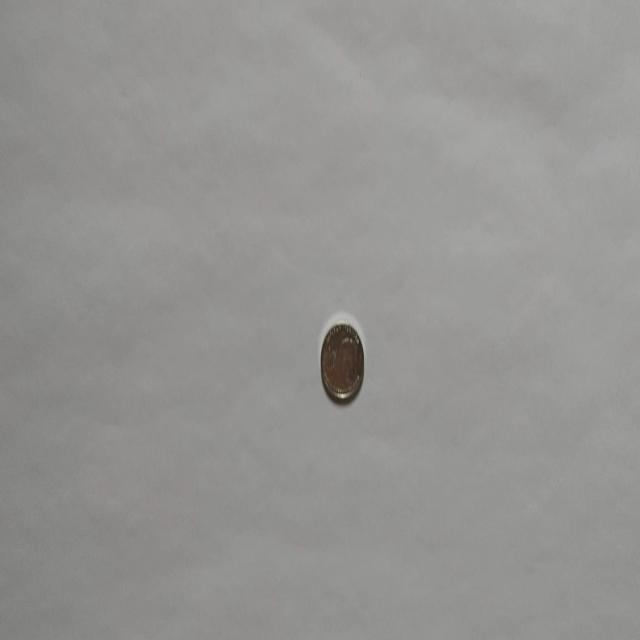seratus rupiah: (320, 319, 364, 403)
